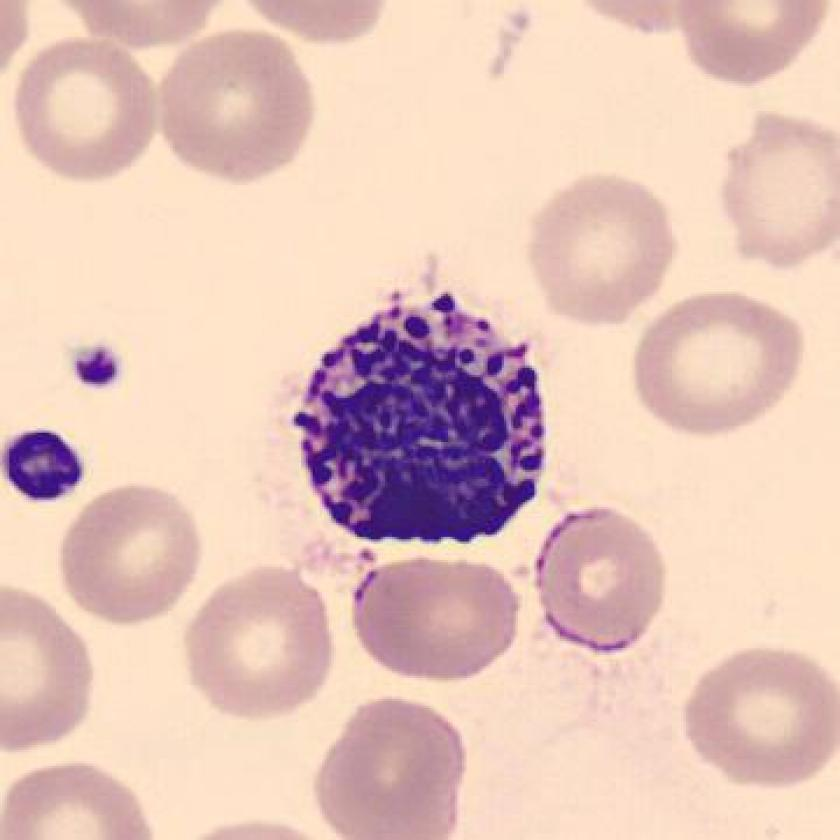basophil: (281, 279, 552, 566)
